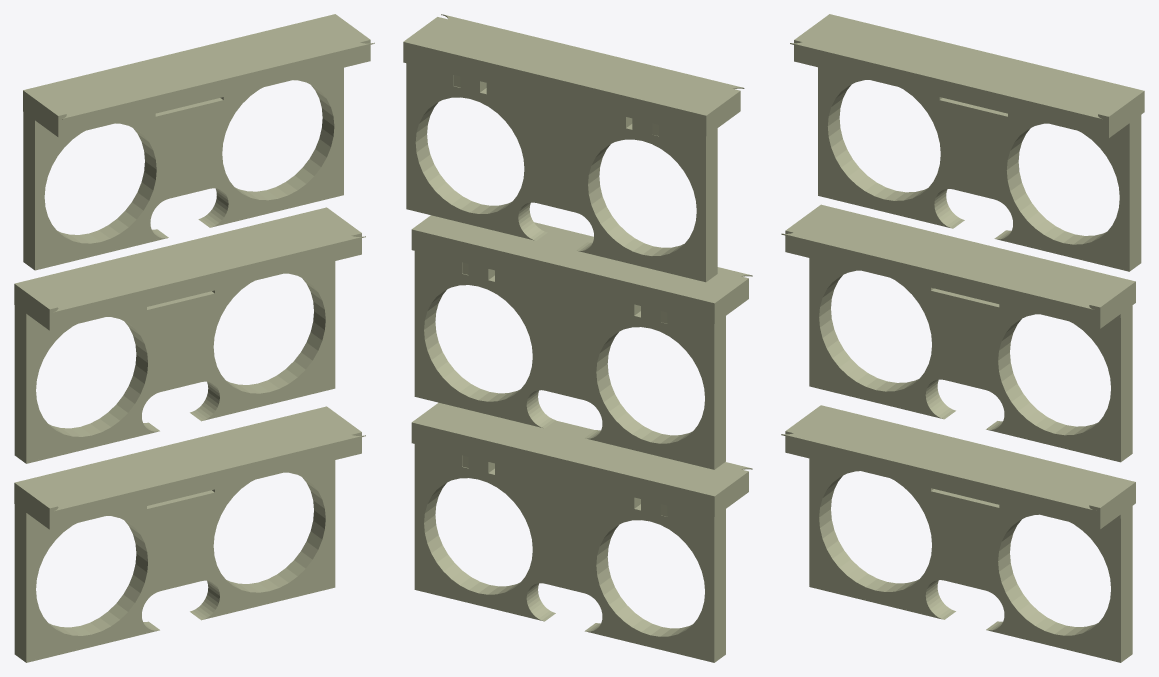
File: tinker.obj
3 views of the same model, side by side, from view 1: azimuth 30°, elevation 25°; view 2: azimuth 150°, elevation 25°; view 3: azimuth 330°, elevation 25° (orthographic). The views are drawn at different scales.
Parts seen in each view (by area): view 1: obj_0; view 2: obj_0; view 3: obj_0.
Boxes of the visible parts, x1,y1,x2,y2 form: obj_0: (14,14,374,662); obj_0: (403,14,752,662); obj_0: (781,14,1144,662).
Bounding box in the file's own units: 47.28 × 79.08 × 10.
